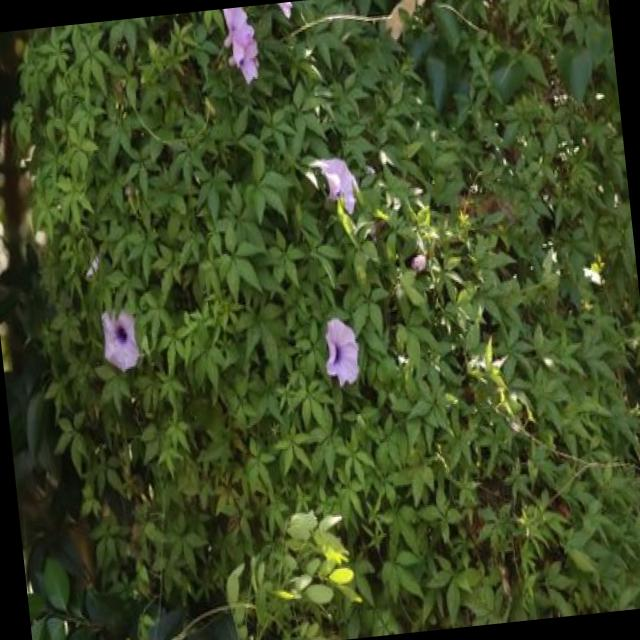ipomoea: (306, 147, 364, 223), (217, 5, 266, 91), (317, 310, 366, 394), (95, 302, 144, 378)
